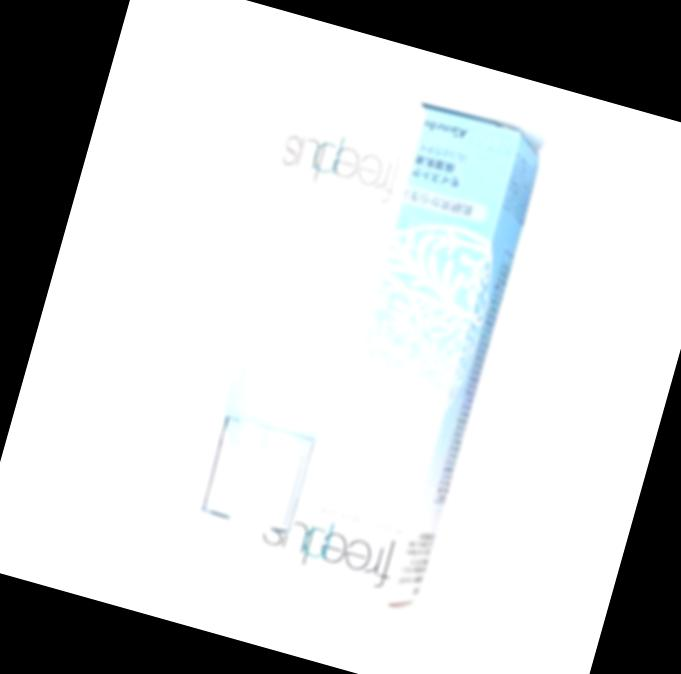cosmetic: (174, 62, 434, 544)
